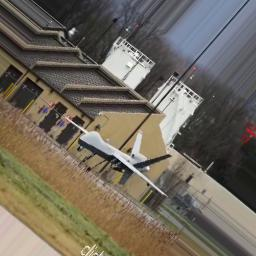reaper: (78, 130, 179, 205)
